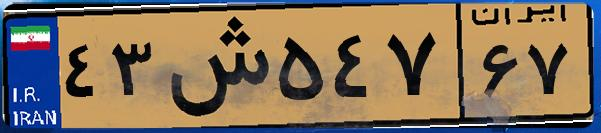3: (110, 28, 158, 98)
4: (330, 28, 385, 110), (57, 26, 110, 100)
5: (270, 28, 330, 110)
6: (475, 38, 525, 113)
7: (385, 28, 445, 110), (525, 38, 570, 115)
ش: (158, 12, 270, 120)
